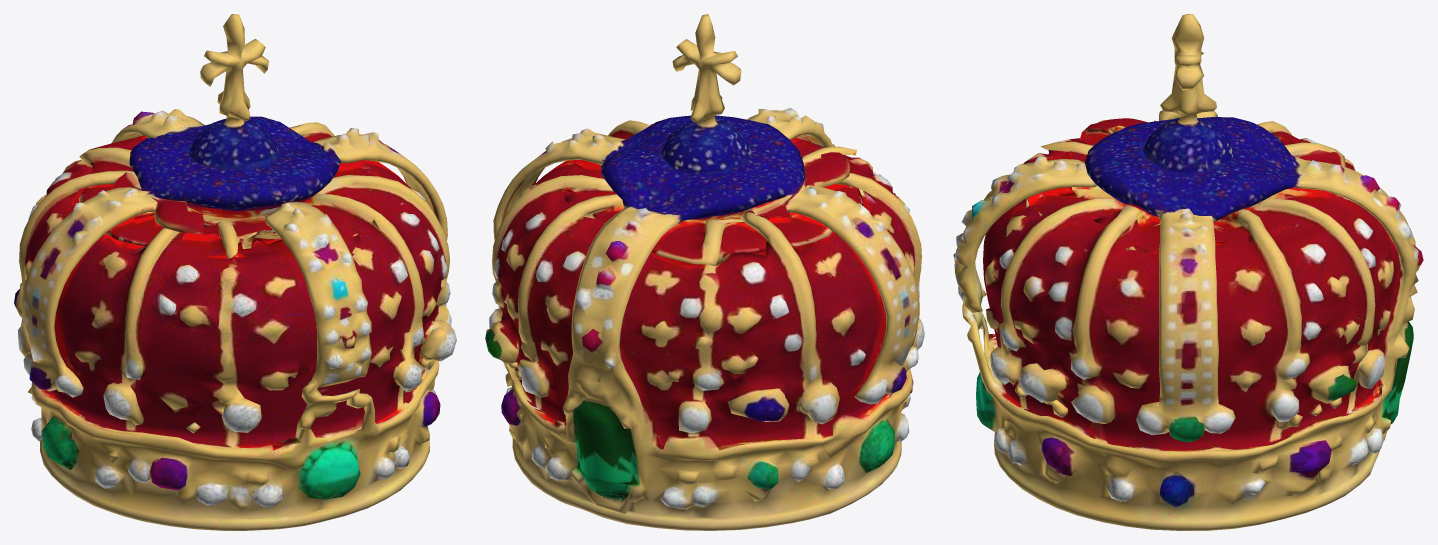
Rendered from crown_ld_v1.glb.
3 renders of one model, left to right at view 1: azimuth 30°, elevation 25°; view 2: azimuth 150°, elevation 25°; view 3: azimuth 270°, elevation 25°, orthographic.
Bounding box in the file's own units: 1.84 × 1.91 × 1.86.
1 material, 1 textured.
